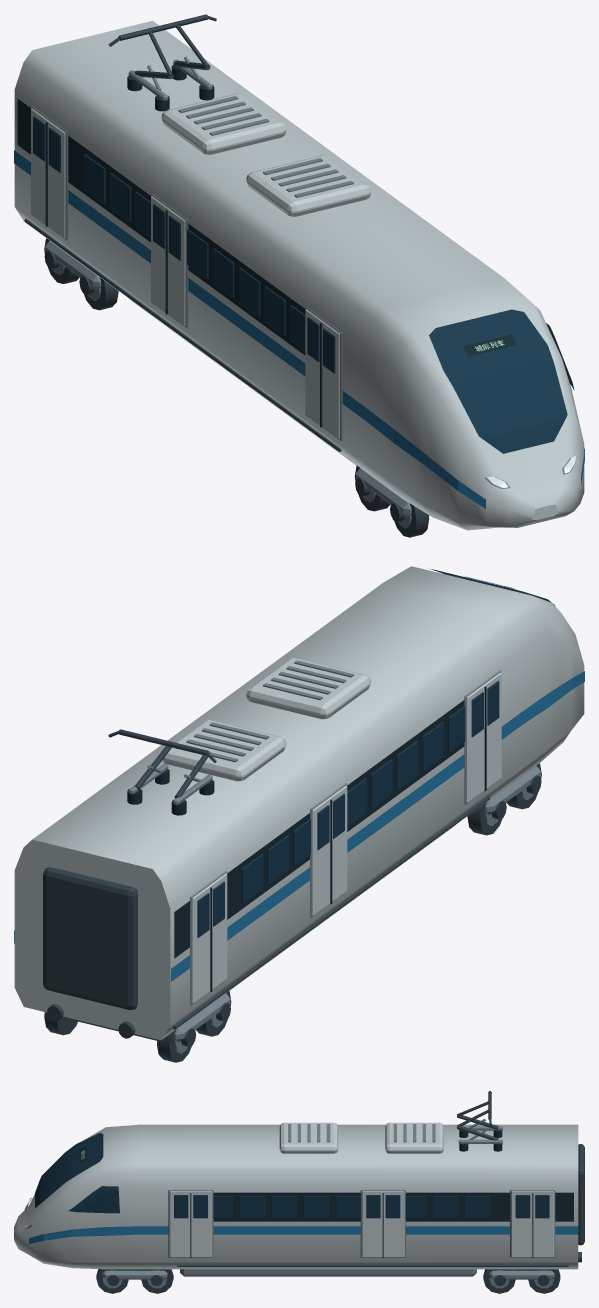
File: intercity-rail.glb
3 views of the same model, one above another, from view 1: azimuth 30°, elevation 25°; view 2: azimuth 150°, elevation 25°; view 3: azimuth 270°, elevation 25° (orthographic). The views are drawn at different scales.
Parts seen in each view (by area): view 1: intercity-rail; view 2: intercity-rail; view 3: intercity-rail.
Part boxes in pixels (x1,y1,x2,y2): intercity-rail: (14,14,584,537); intercity-rail: (14,566,584,1062); intercity-rail: (14,1091,584,1293).
Size of the model in its own units: 2.09 by 3.3 by 10.
Materials: 8 (1 with a texture image).
